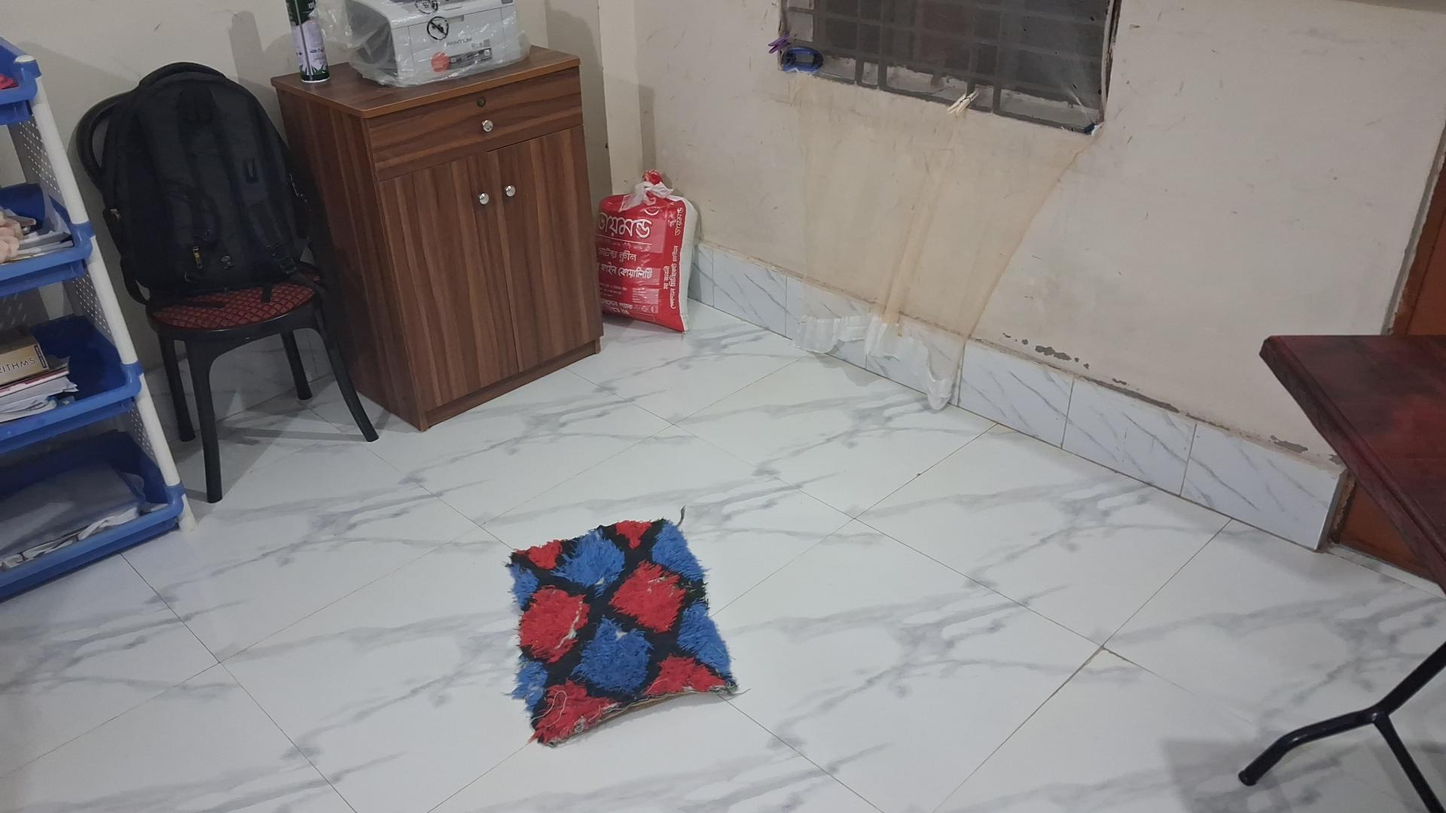Bag: (90, 56, 326, 321), (595, 177, 695, 338)
Bottle: (282, 2, 330, 87)
Chair: (69, 61, 380, 505)
Floor Mat: (492, 525, 746, 744)
Rack: (0, 50, 198, 575)
